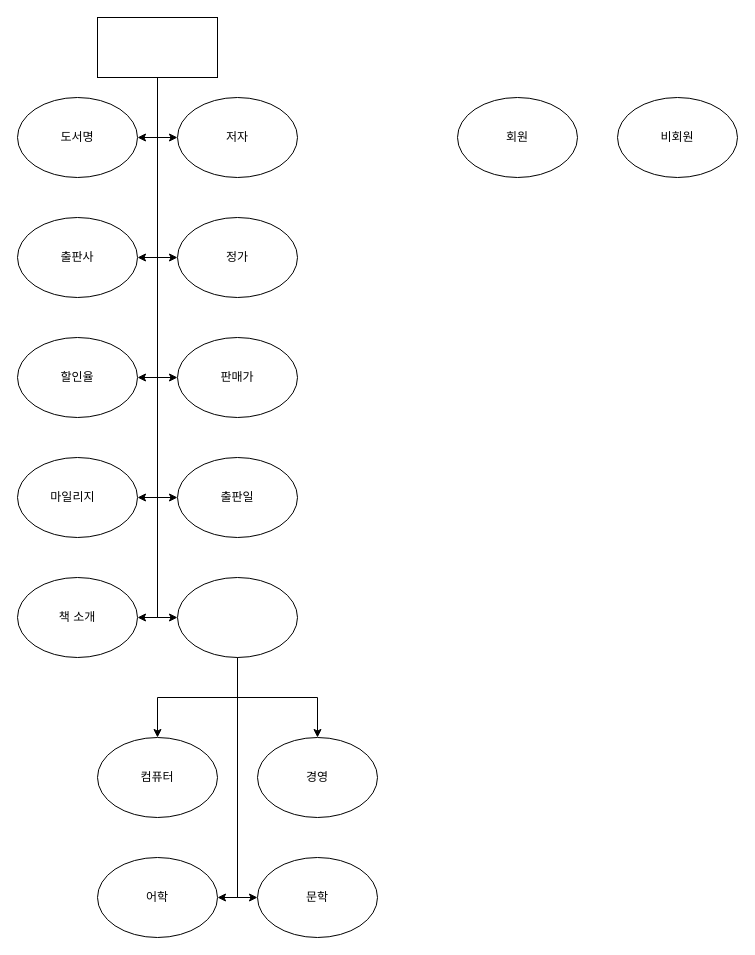
The diagram is 755 pixels wide and 955 high, and some of its shapes have lost their labels. Here are the shapes that lost their labels. From the top down, the centre of each, then its label:
pixel 157 47: 도서
pixel 237 617: 분류
